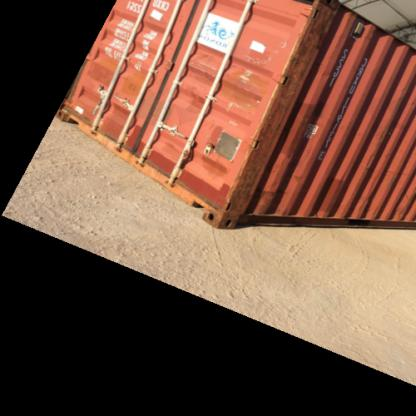Damage: (227, 142, 307, 214), (281, 3, 333, 109), (361, 125, 389, 175), (394, 192, 414, 222)
